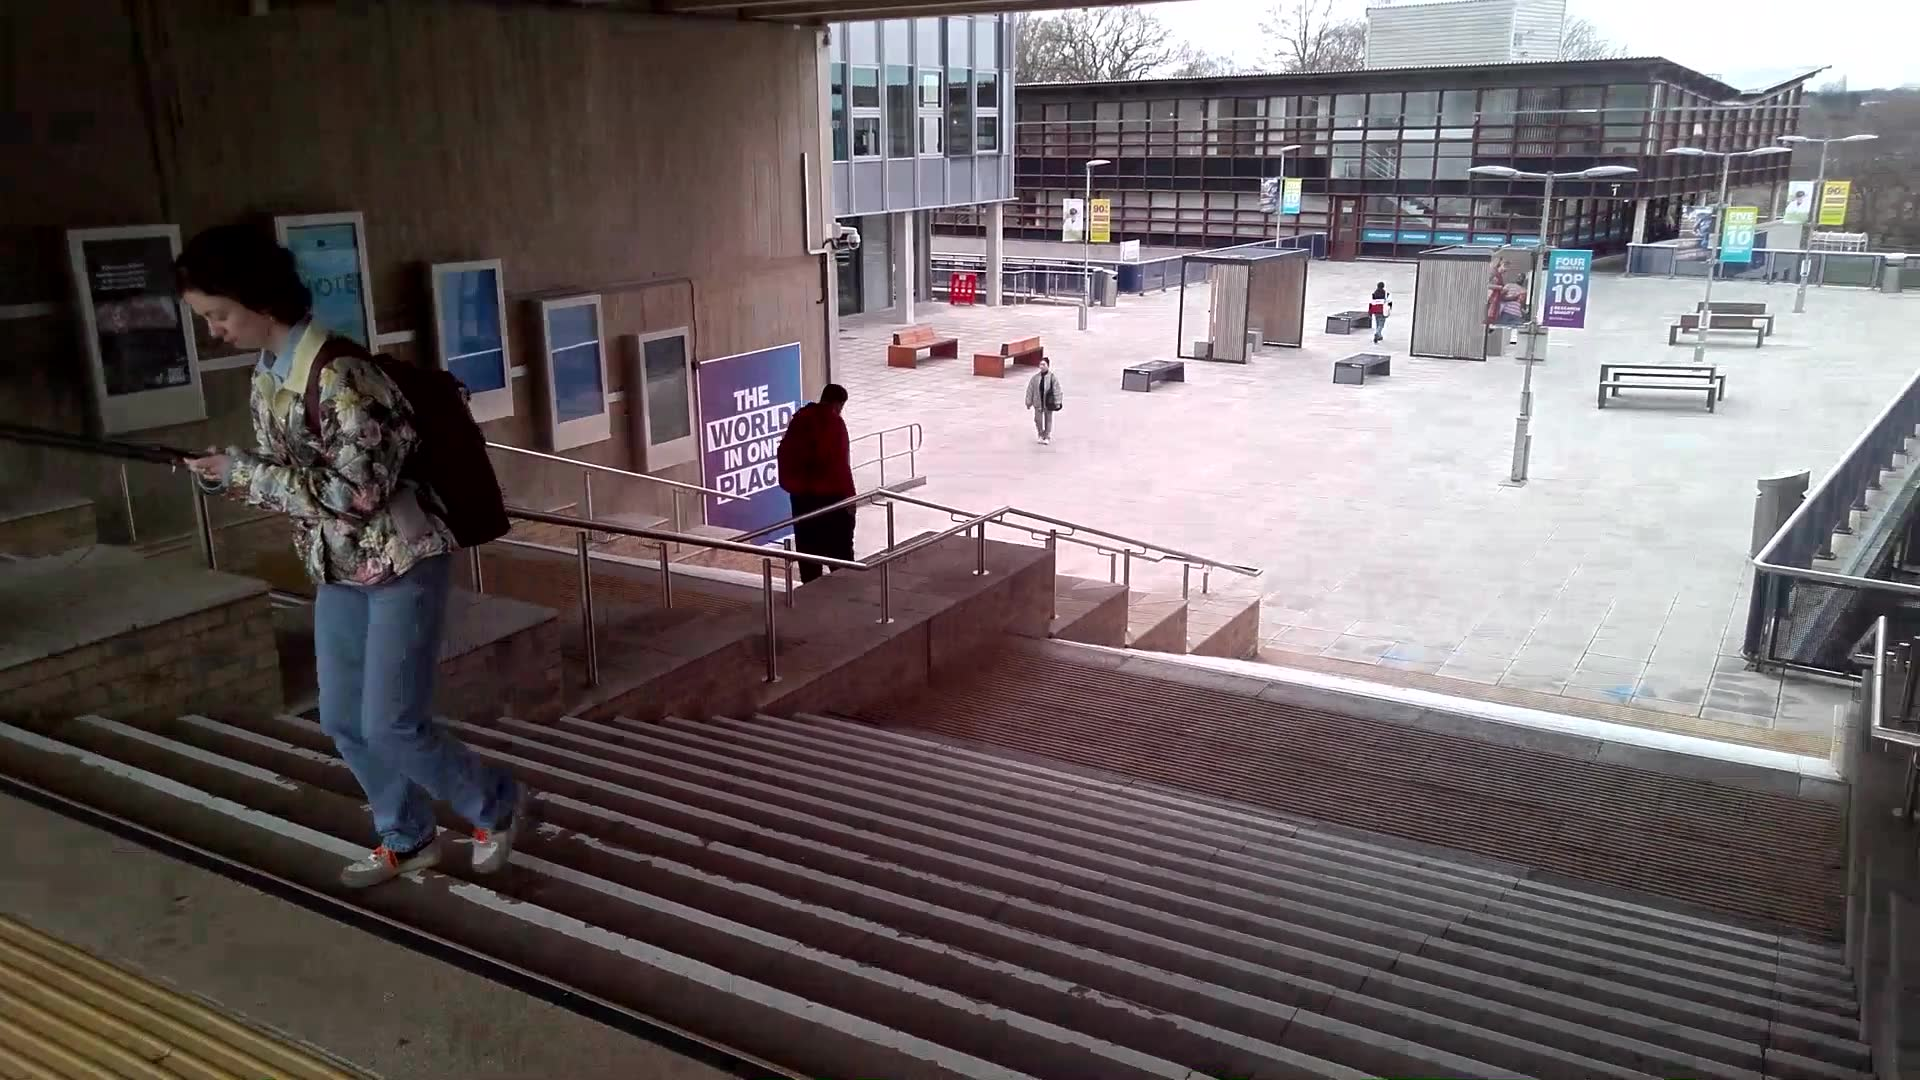Backpack: (396, 335, 520, 558), (780, 418, 820, 490)
Bench: (1596, 351, 1740, 434), (1669, 293, 1780, 347), (888, 321, 961, 371), (1124, 355, 1196, 405), (977, 331, 1044, 373), (1333, 351, 1405, 386)
Person: (192, 233, 480, 875), (801, 382, 857, 565), (1025, 355, 1070, 442), (1366, 281, 1401, 345)
Stairs: (38, 697, 1914, 1080)
